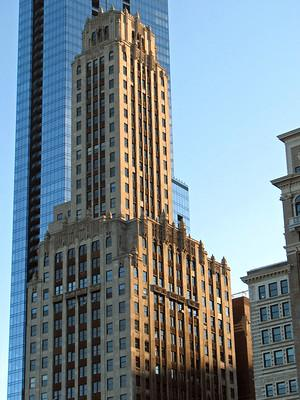building: (22, 5, 239, 400)
